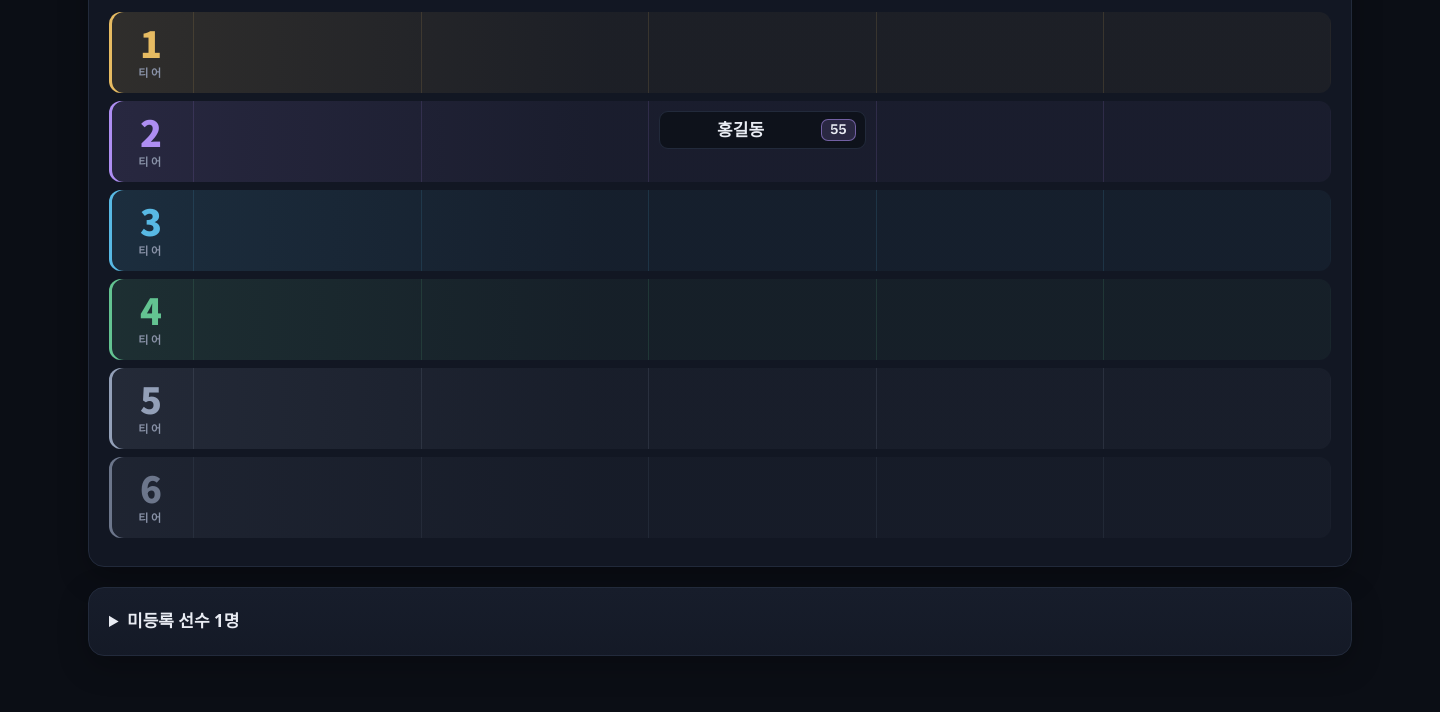
Test: PlayerTierAdminPage › 미등록 선수 합치기 › 409 PLAYER_MERGE_CONFLICT 문구를 보여 준다
(page scrolled)
Click the heading "미등록 선수 1명" at x=183, y=621, box 127,609 -> 239,632
(page scrolled)
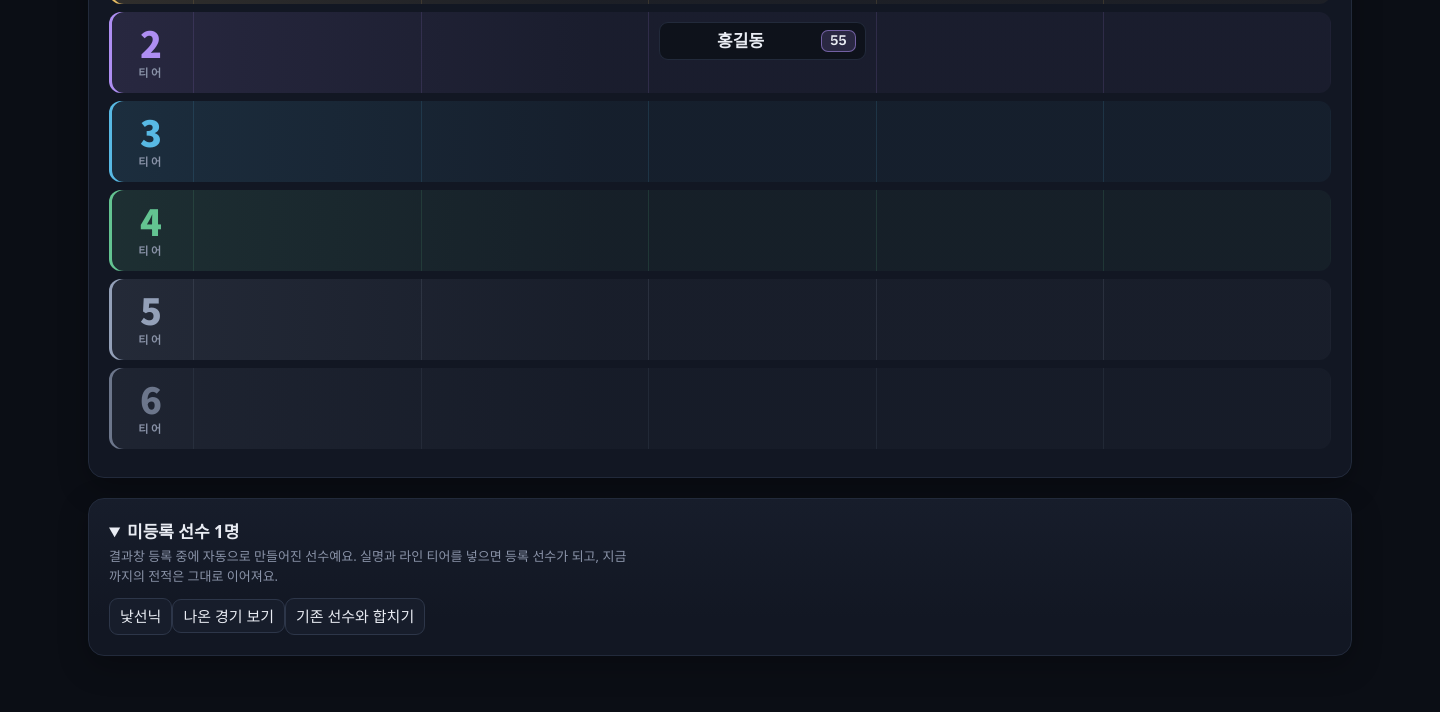
Click the button "기존 선수와 합치기" at x=355, y=617, box 285,598 -> 425,635
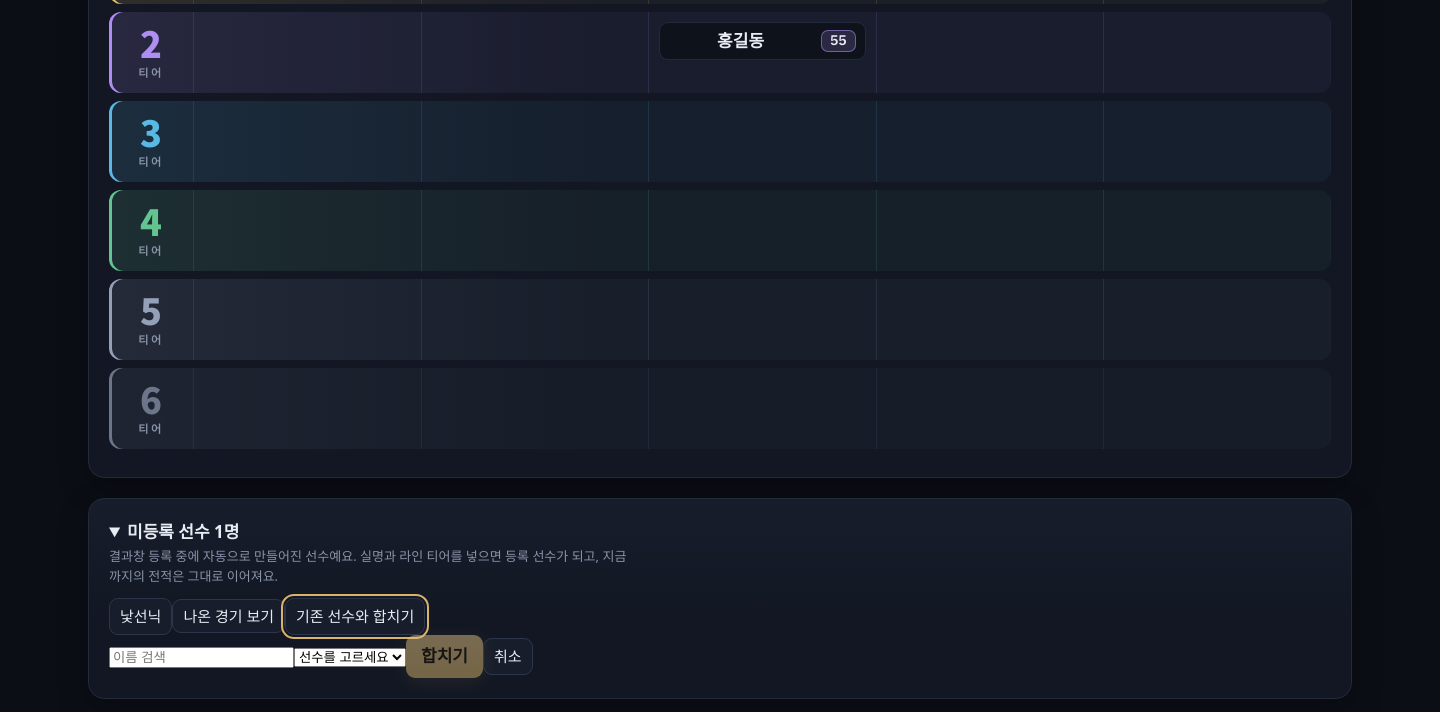
Select "홍길동" in the dropdown named "합칠 선수" at x=350, y=658, box 294,648 -> 406,667
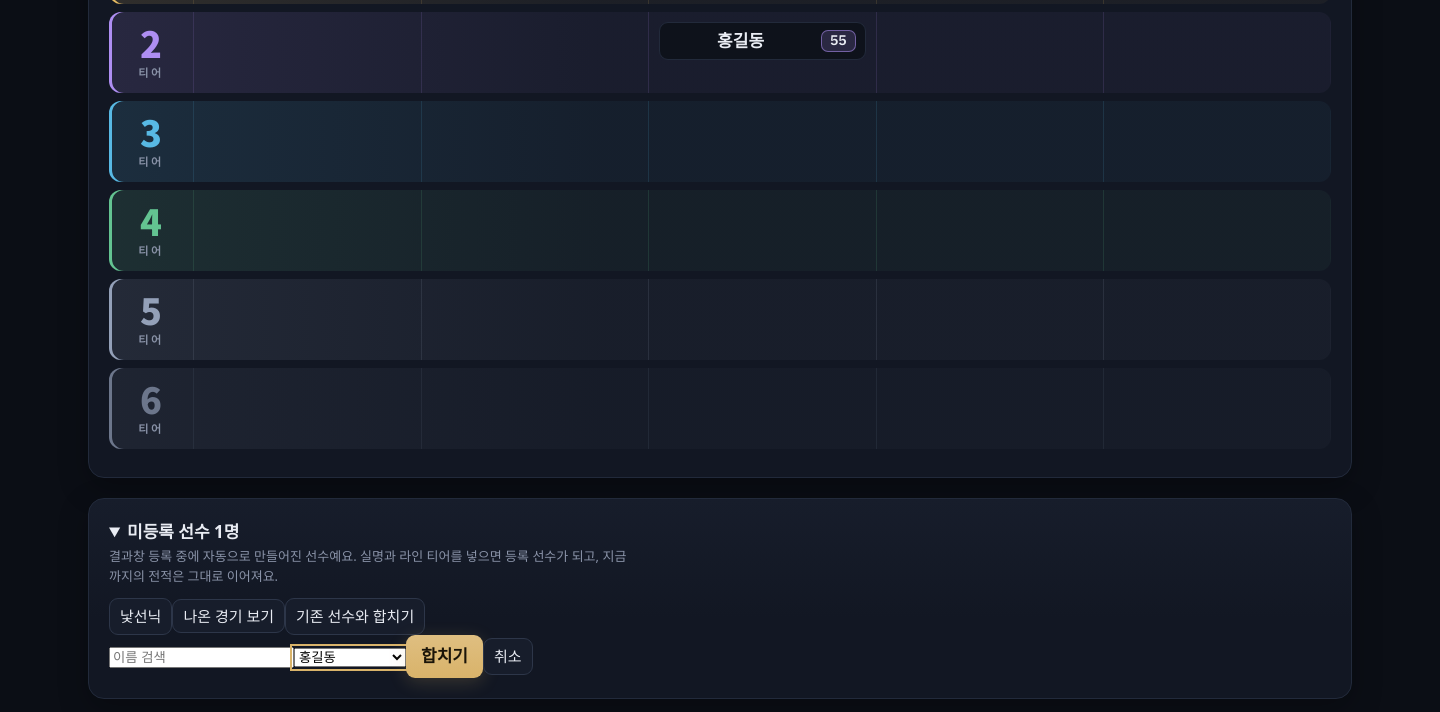
Click the button "합치기" at x=444, y=656, box 406,635 -> 483,678
(page scrolled)
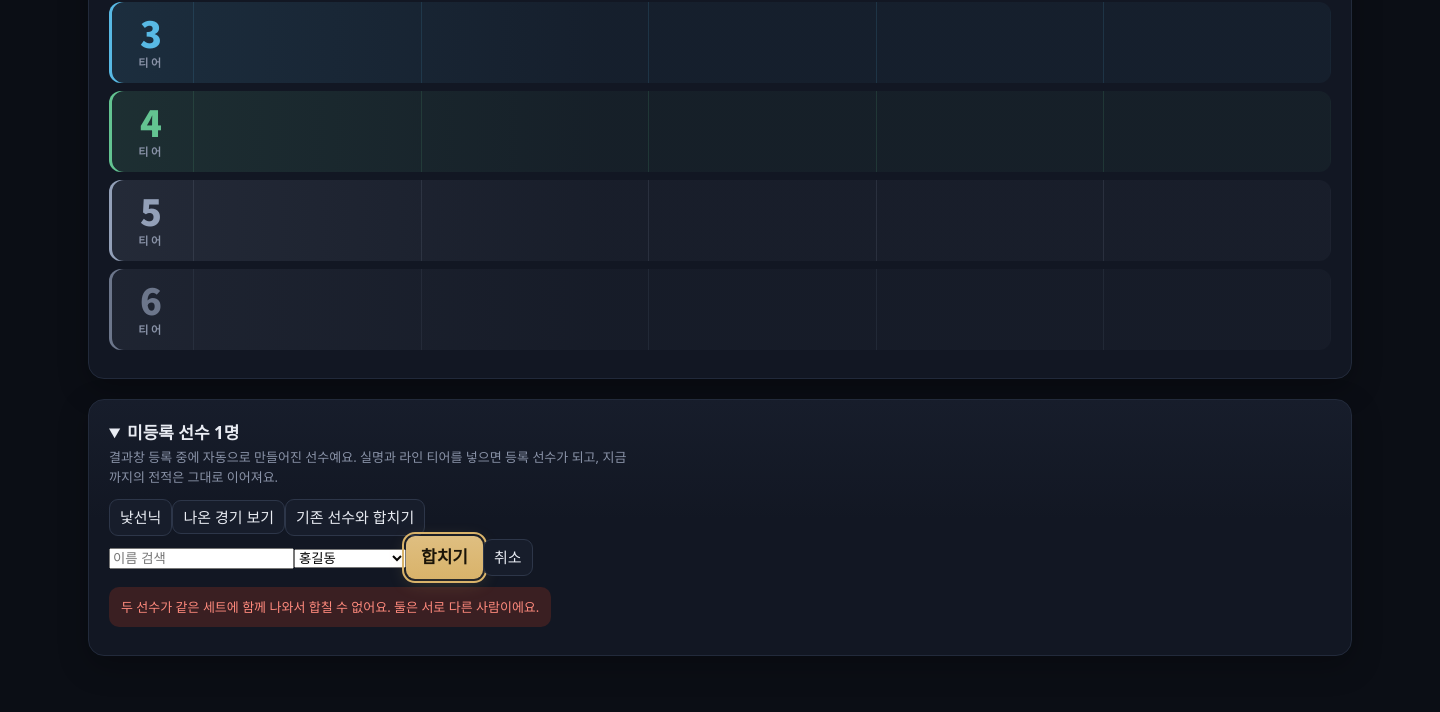
Check: the message shows "같은 세트에 함께 나와서 합칠 수 없어요", box 121,598 -> 539,616
